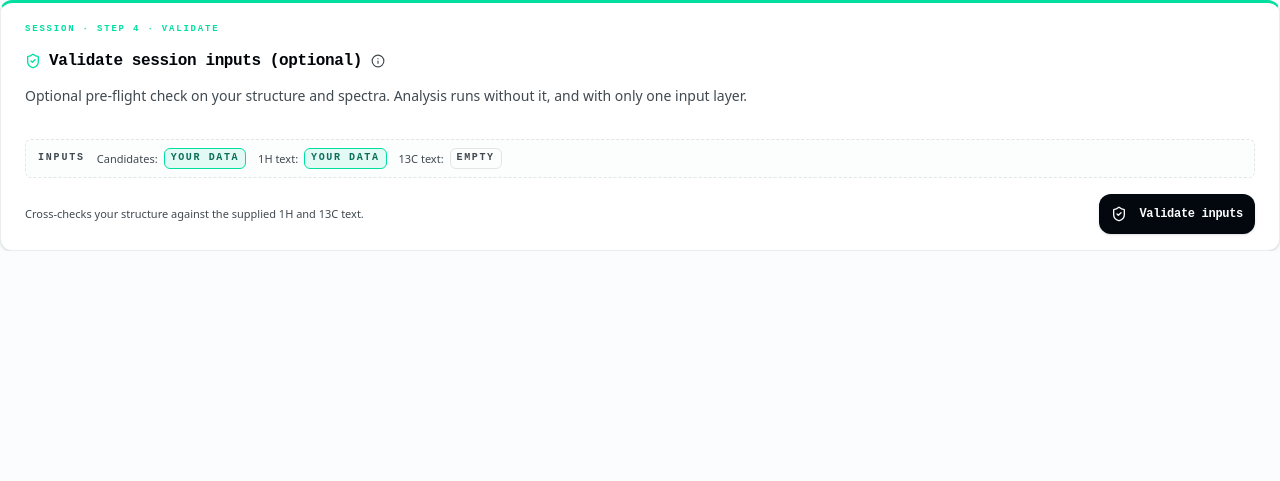
Test case: SessionValidateCard — backend roundtrip › renders 'Validation failed' with the backend errors when SMILES ↔ NMR disagree
Click the button with test id "session-validate-button": (1177,214) [1100,194,1255,234]
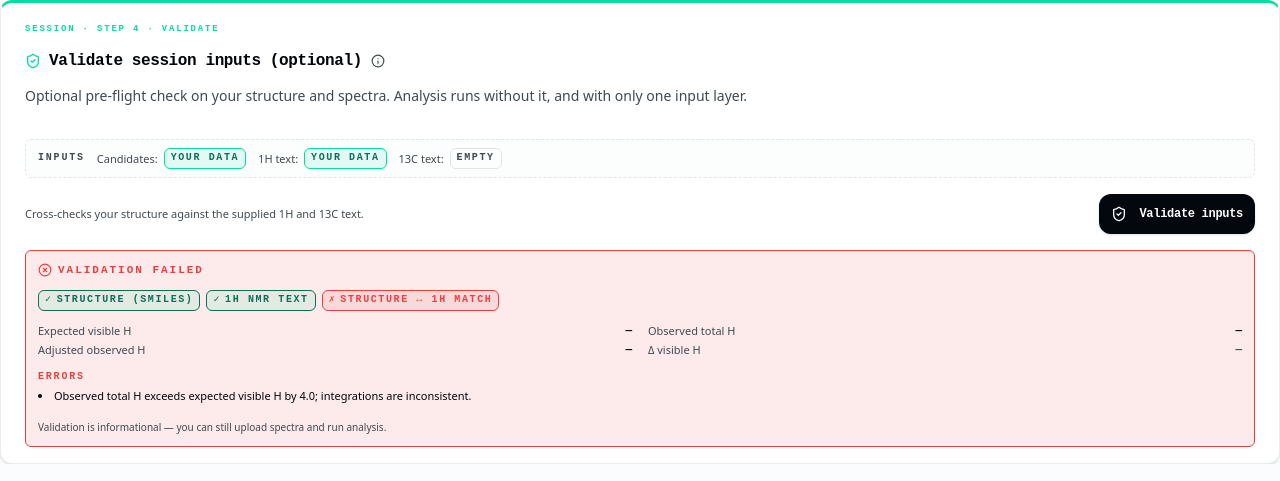
Expected: the element with test id "session-validate-errors" shows "Observed total H exceeds expected visible H", [54,388,472,403]
